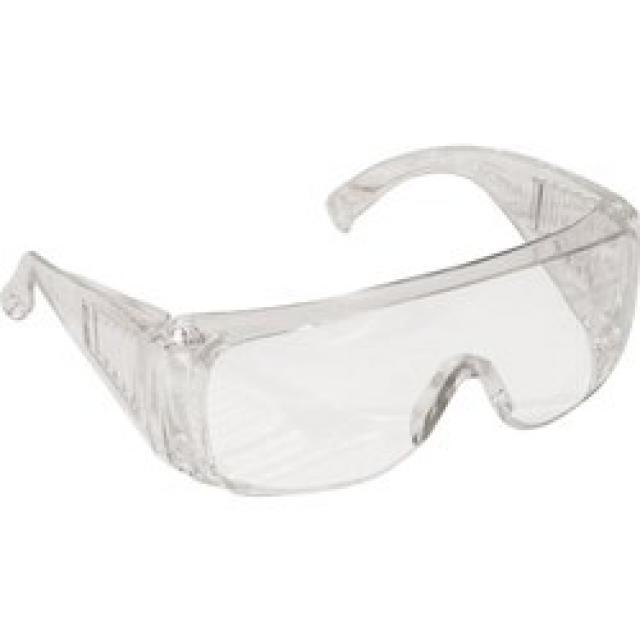Goggles: (0, 136, 640, 520)
